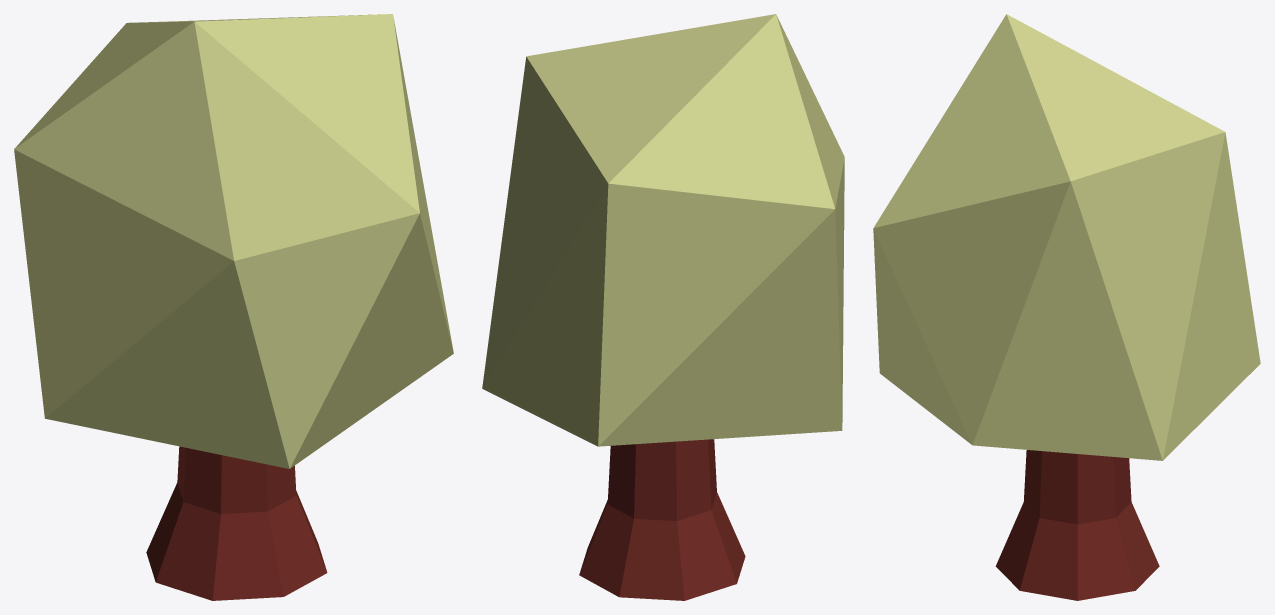
Rendered from tree10.fbx.
The picture shows the model from 3 angles, left to right: view 1: azimuth 30°, elevation 25°; view 2: azimuth 150°, elevation 25°; view 3: azimuth 270°, elevation 25°; orthographic projection. The views are drawn at different scales.
Parts seen in each view (by area): view 1: Cylinder.001, Cylinder; view 2: Cylinder.001, Cylinder; view 3: Cylinder.001, Cylinder.
Boxes of the visible parts, x1=… form: Cylinder.001: x1=14, y1=14, x2=453, y2=468; Cylinder: x1=146, y1=446, x2=327, y2=600; Cylinder.001: x1=482, y1=14, x2=844, y2=446; Cylinder: x1=579, y1=439, x2=745, y2=600; Cylinder.001: x1=873, y1=14, x2=1260, y2=460; Cylinder: x1=995, y1=450, x2=1159, y2=600.
Size of the model in its own units: 234 by 364 by 248.
